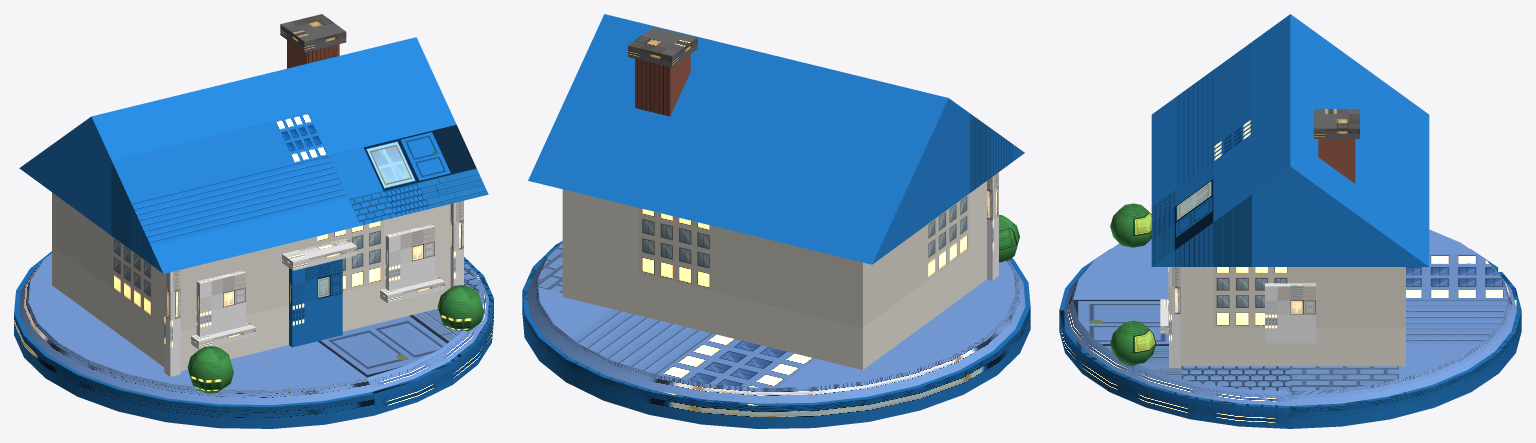
The model's file is tier-05-cottage.glb.
3 renders of one model, left to right at view 1: azimuth 30°, elevation 25°; view 2: azimuth 150°, elevation 25°; view 3: azimuth 270°, elevation 25°, orthographic. The views are drawn at different scales.
Visible parts, largest first — view 1: toon; view 2: toon; view 3: toon.
Boxes of the visible parts, <box> form: toon: <box>14,14,493,428</box>; toon: <box>522,14,1030,428</box>; toon: <box>1059,14,1521,428</box>.
Bounding box in the file's own units: 1 × 0.6 × 1.
Materials: 1 (1 with a texture image).
